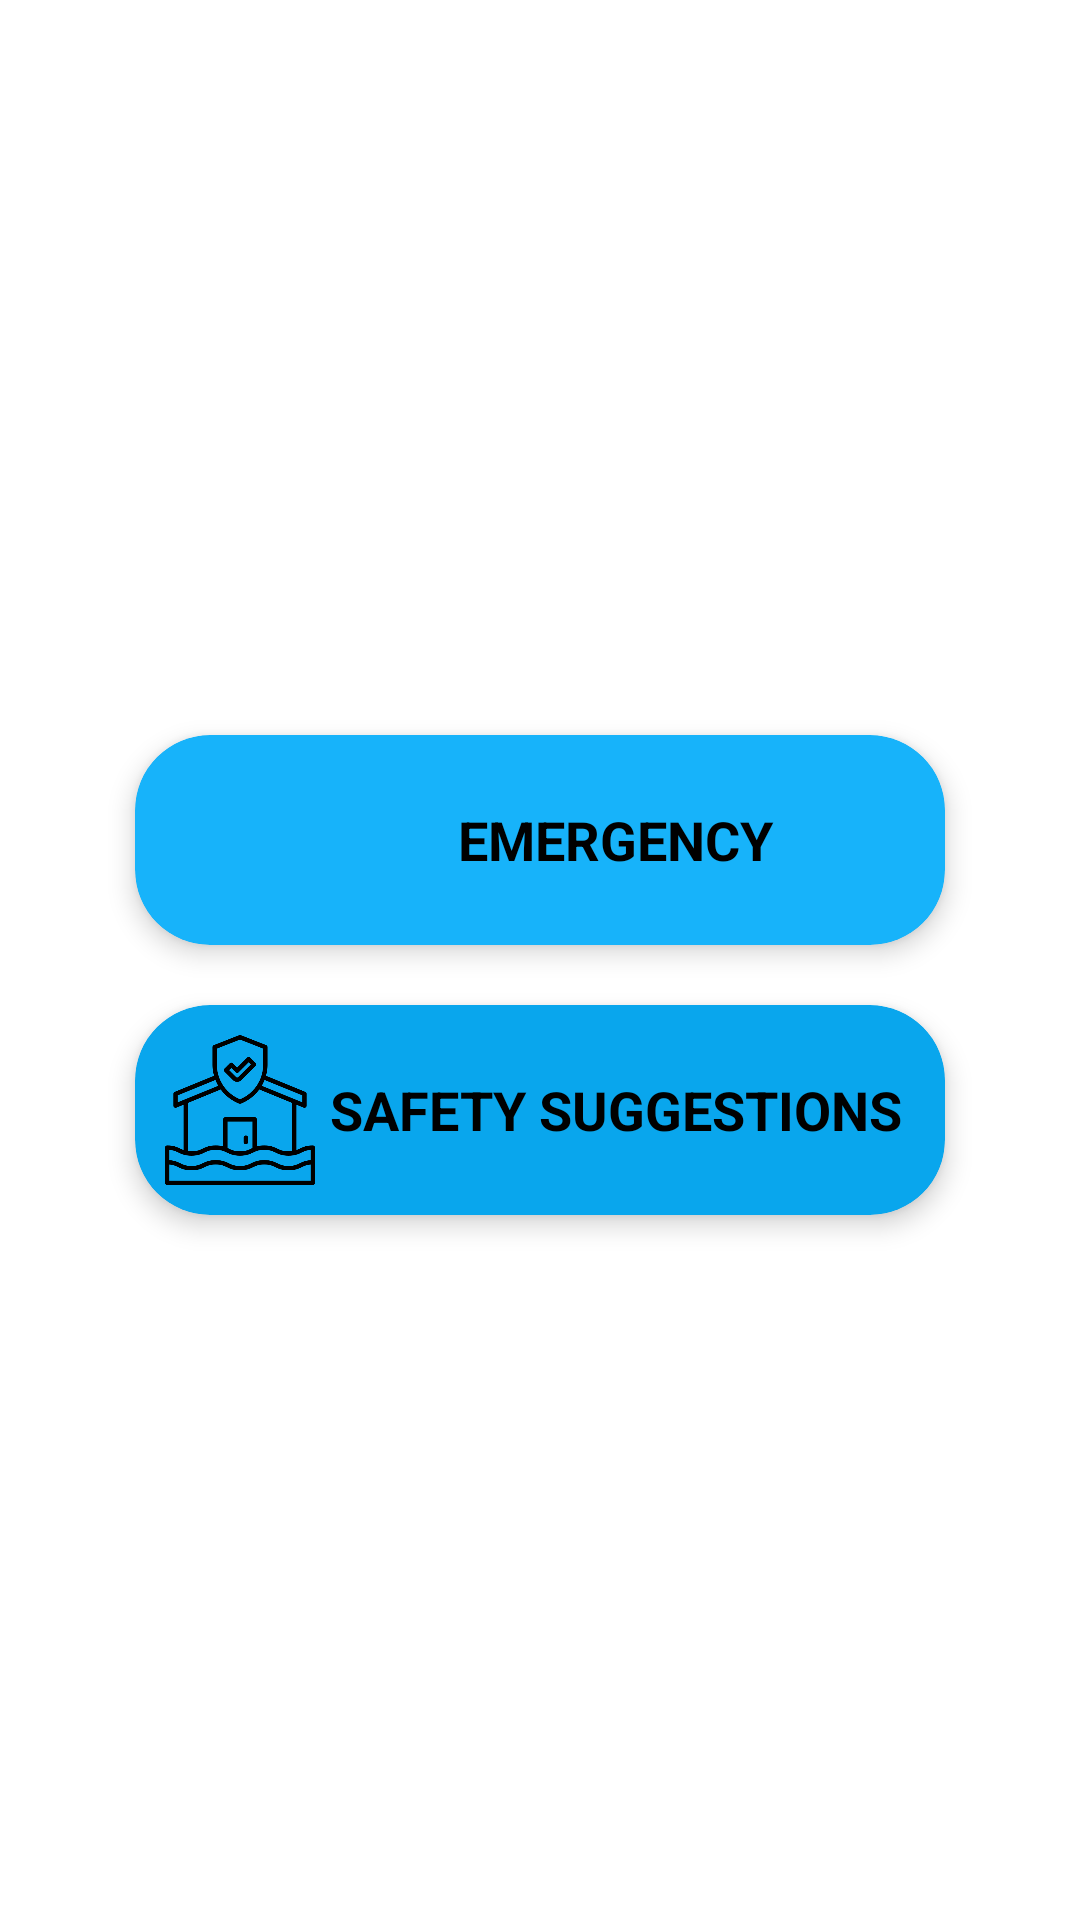

Locate icon controls on the screen. Image size 1080*1920, boxes as box=[x1, y1, x2, y2].
flood: box=[165, 1035, 315, 1185]
